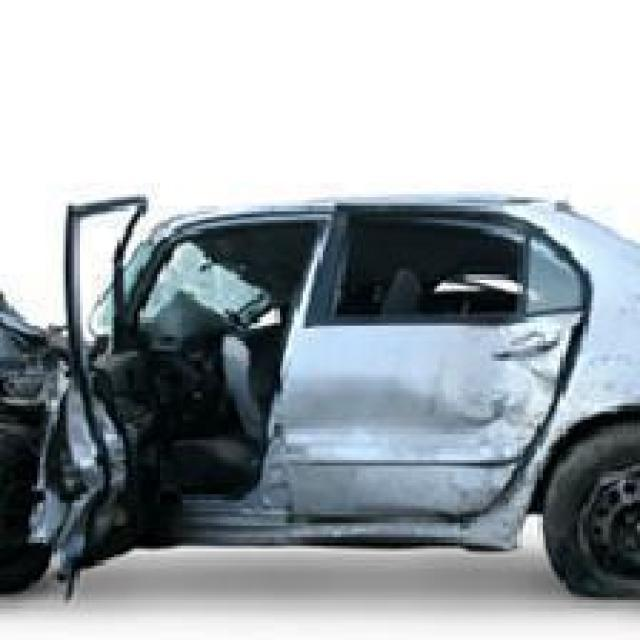damaged: (17, 205, 580, 546)
